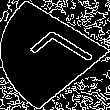L_SE: (14, 27, 96, 83)
